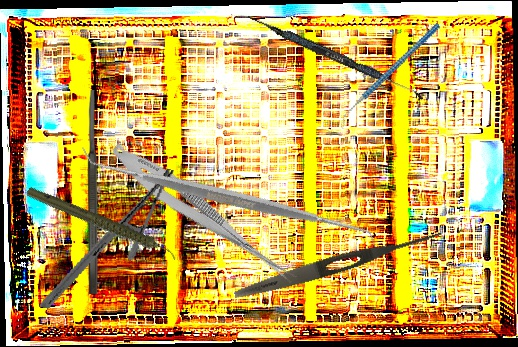Chopper: (318, 22, 462, 130)
Dressing Forceps: (231, 222, 446, 305)
Handpiece: (24, 158, 179, 292)
Micro Scissor: (103, 136, 305, 291)
Needle Holder: (38, 146, 177, 331)
Spatula Surgical: (80, 50, 377, 343), (244, 13, 427, 100), (87, 90, 99, 294)
